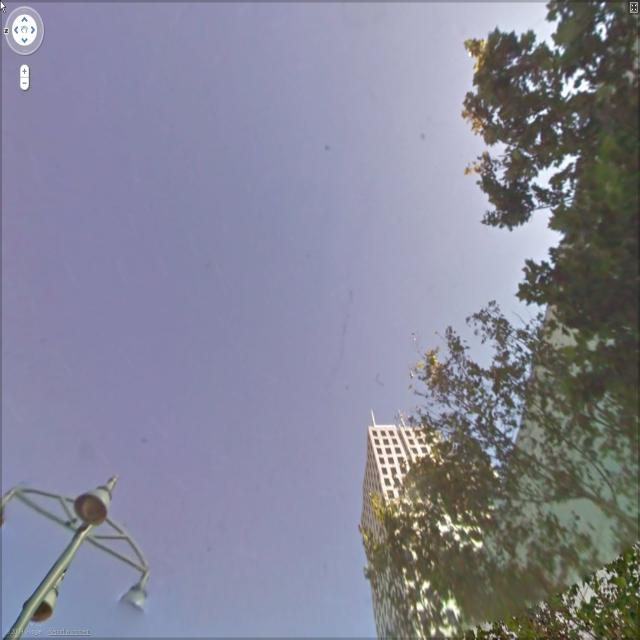b_2: (469, 14, 640, 626), (351, 402, 509, 640)
